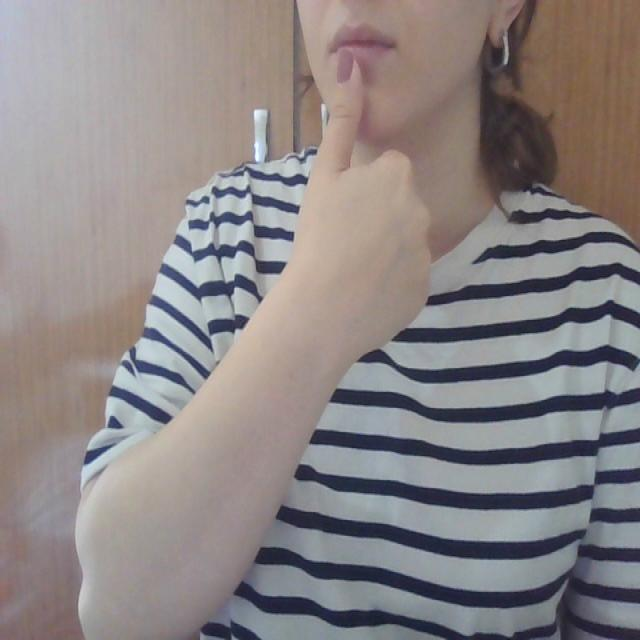Baba: (314, 10, 408, 156)
